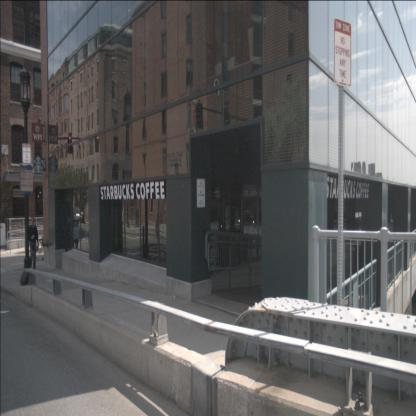human-pedestrian-adult: (28, 217, 39, 274)
vehicle-bicycle: (35, 233, 56, 261)
vehicle-car: (72, 207, 84, 222)
